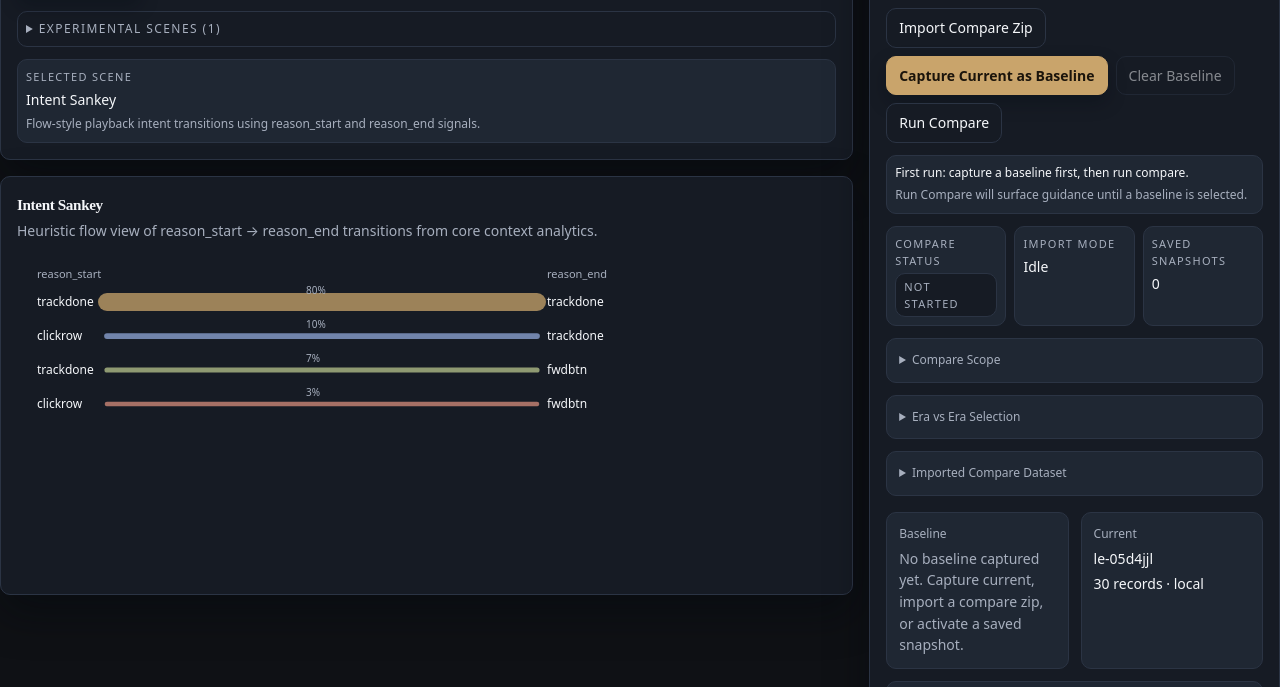
Scenario: LabWorkbench › keeps compare workspace controls available in simple analysis mode
The image size is (1280, 687).
(page scrolled)
Click the heading "Compare Scope".
click(956, 360)  # box [912,351,1000,368]
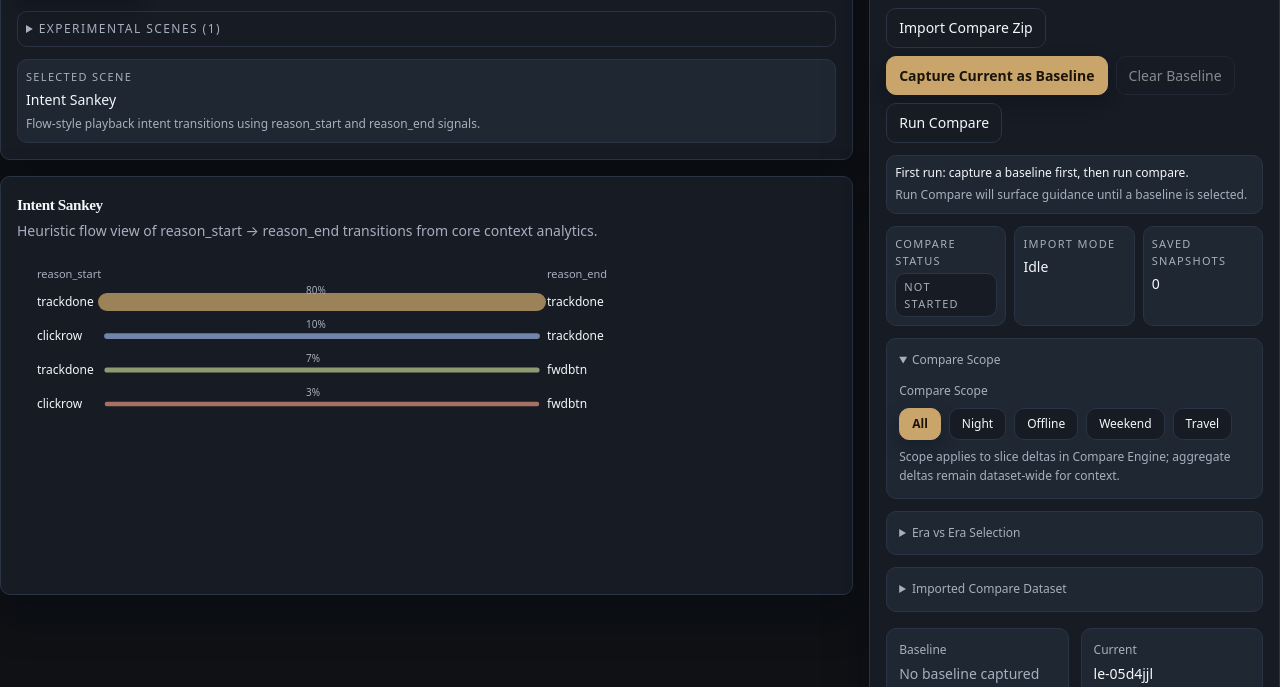
Expected: the button "All" is shown, [899,408,941,440]
Click the heading "Era vs Era Selection".
click(966, 532)  # box [912,524,1020,541]
(page scrolled)
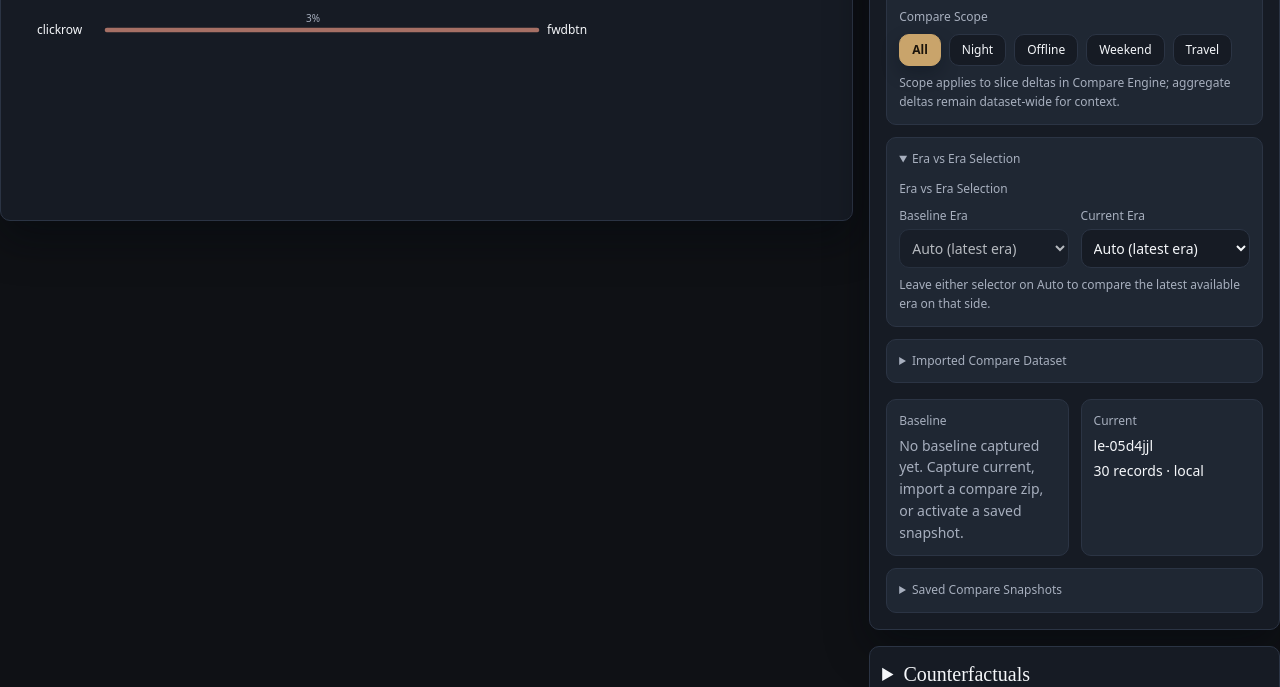
Expected: the dropdown named "Baseline era selector" is shown, [899,229,1069,268]
Expected: the dropdown named "Current era selector" is shown, [1081,229,1250,268]
Click the heading "Imported Compare Dataset".
click(989, 360)  # box [912,352,1067,369]
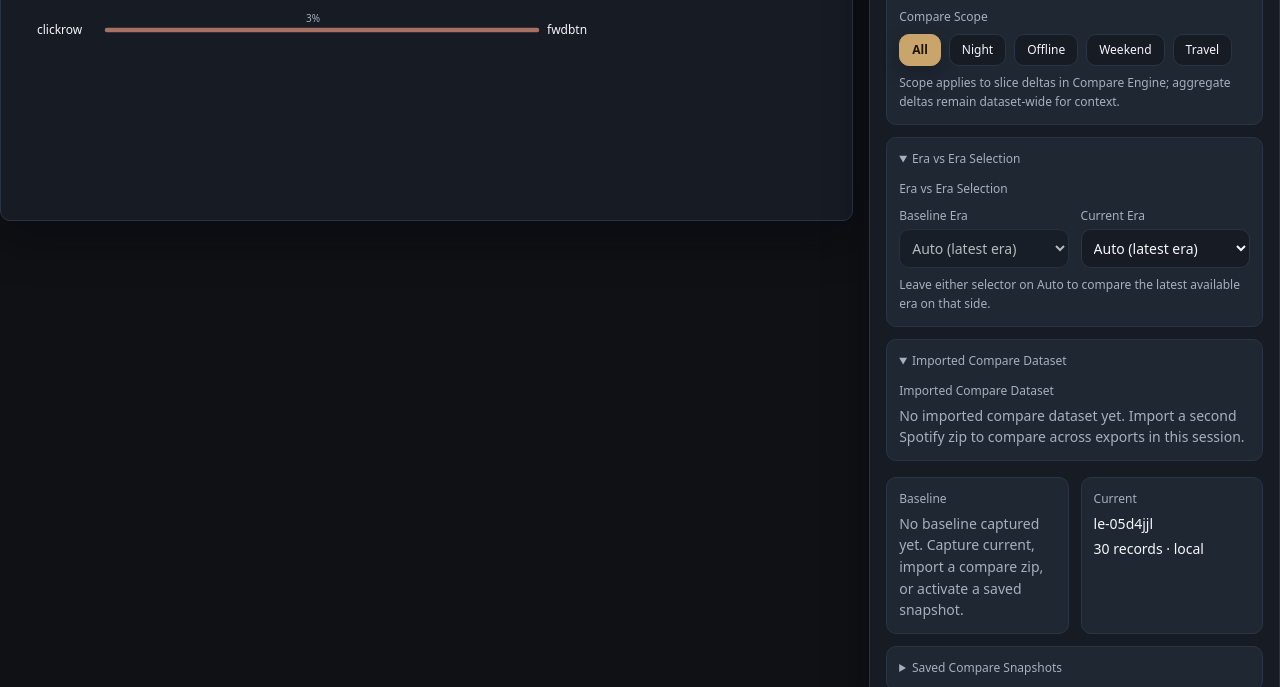
Expected: the text "No imported compare dataset yet" is shown, [899,406,1245,446]
